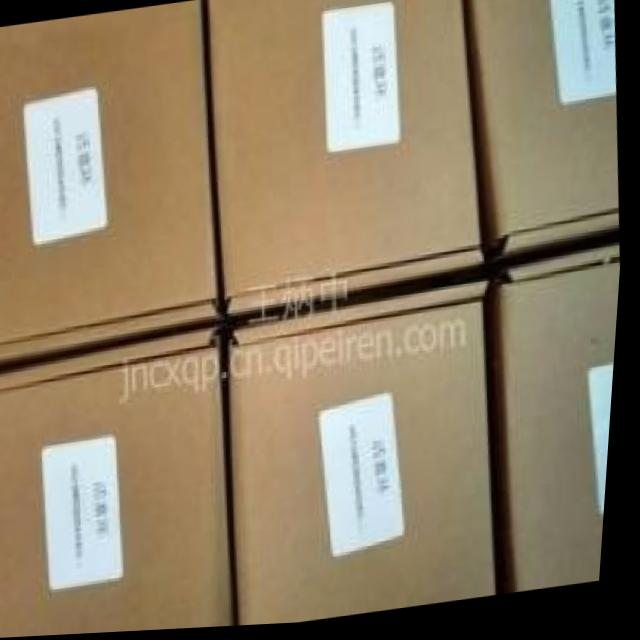box: (233, 286, 504, 629), (205, 0, 488, 316), (0, 1, 227, 365), (0, 329, 240, 639), (489, 249, 624, 600), (461, 0, 622, 269)
